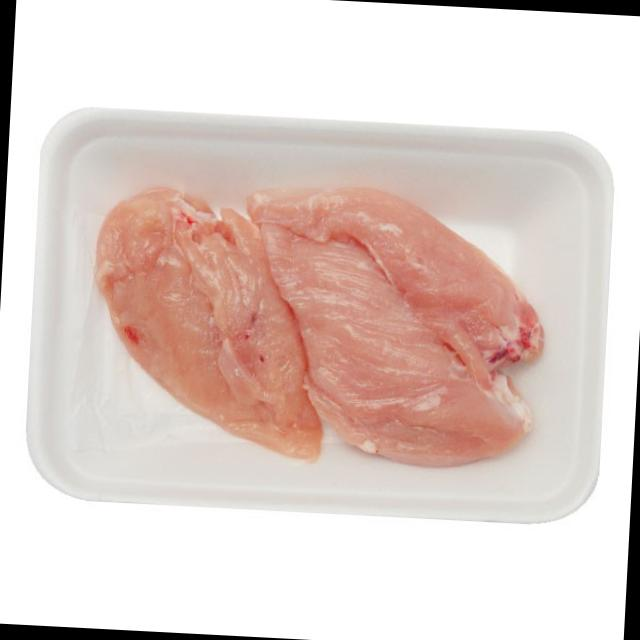chicken: (243, 182, 553, 478), (80, 188, 332, 458)
